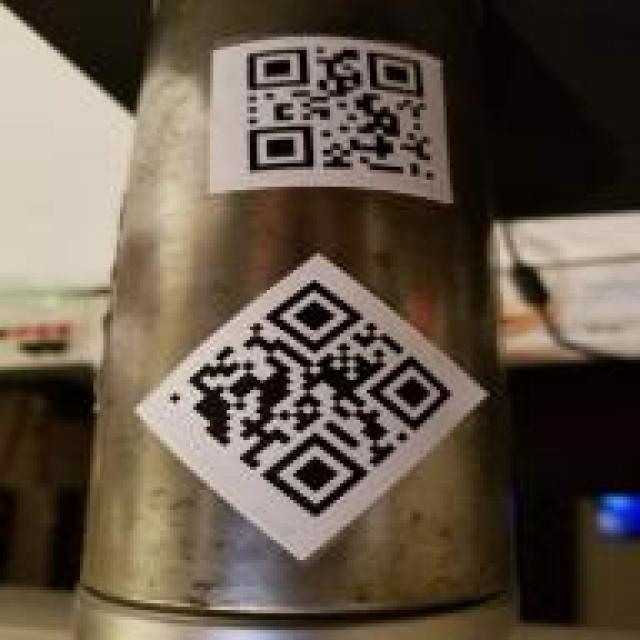QR_CODE: (157, 273, 460, 527), (227, 38, 443, 194)
